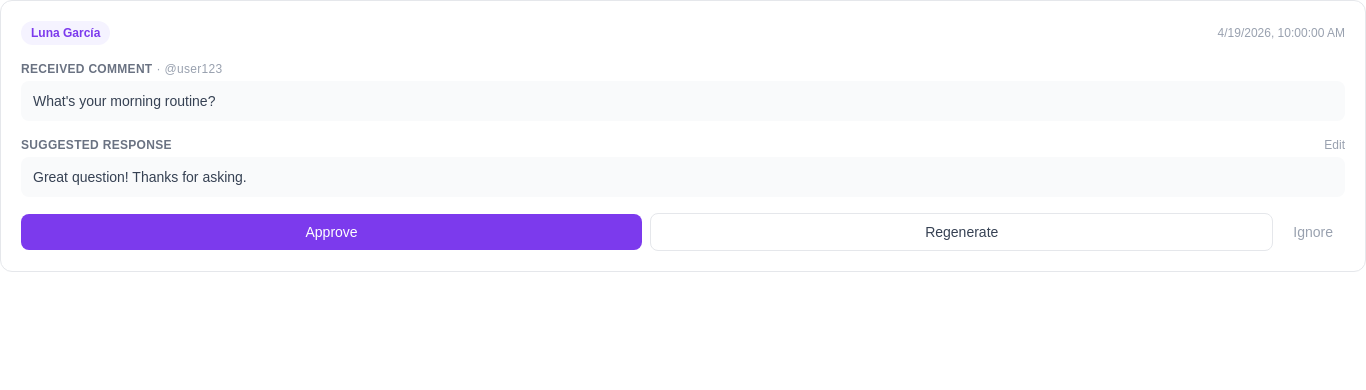
Test case: ApprovalCard › inline edit › shows textarea when clicking Edit
Click the button "Edit" at [1335, 145], box [1324, 137, 1345, 153]
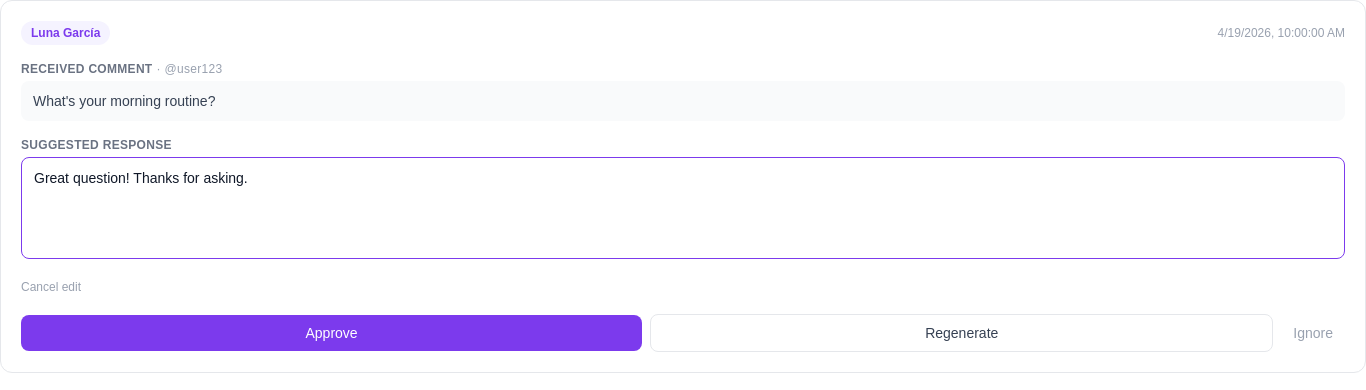
Now the text box is shown, box [21, 157, 1345, 259]
Now the button "Cancel edit" is shown, box [21, 279, 81, 295]
